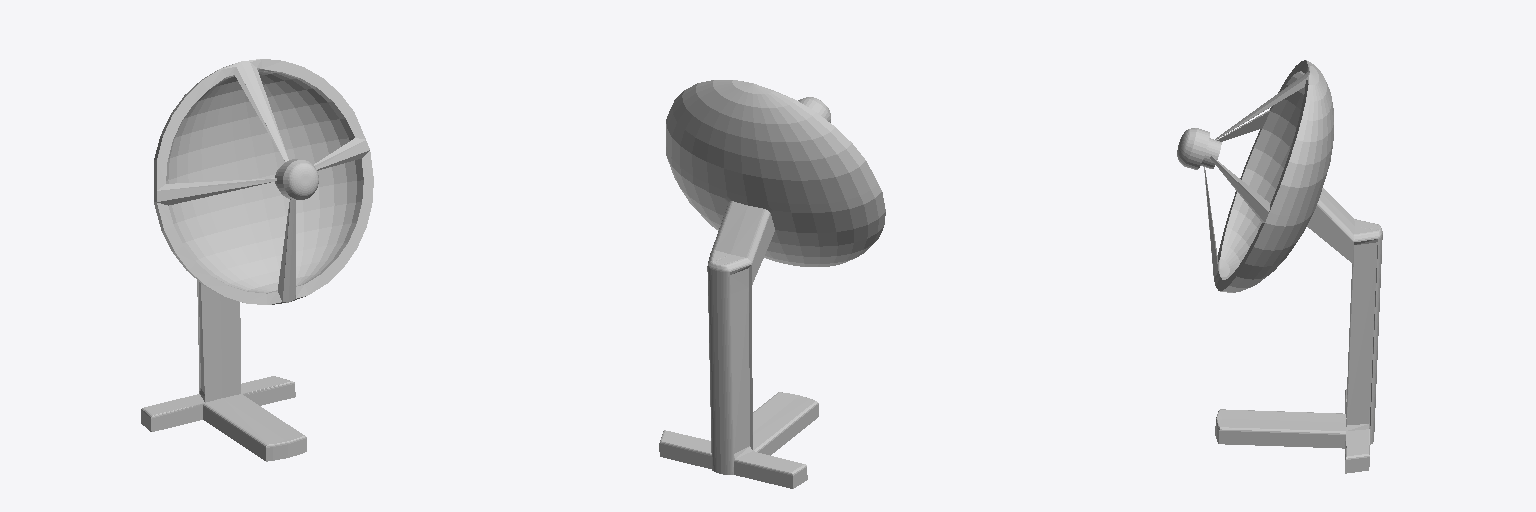
File: satellite.obj
3 renders of one model, left to right at view 1: azimuth 30°, elevation 25°; view 2: azimuth 150°, elevation 25°; view 3: azimuth 270°, elevation 25°, orthographic.
Parts seen in each view (by area): view 1: Sphere; view 2: Sphere; view 3: Sphere.
Part boxes in pixels (x1,y1,x2,y2): Sphere: (141, 59, 373, 461); Sphere: (659, 80, 885, 488); Sphere: (1177, 60, 1382, 473).
Bounding box in the file's own units: 2.21 × 3.63 × 1.84.